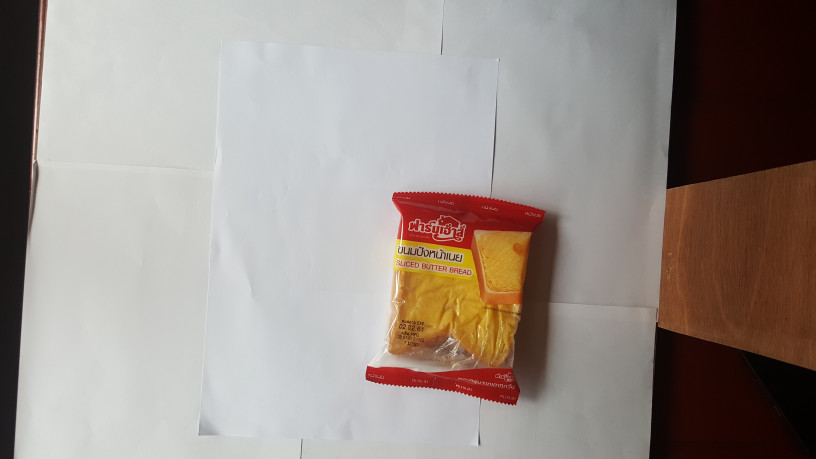farmhouse-bread-butter: (358, 181, 552, 414)
